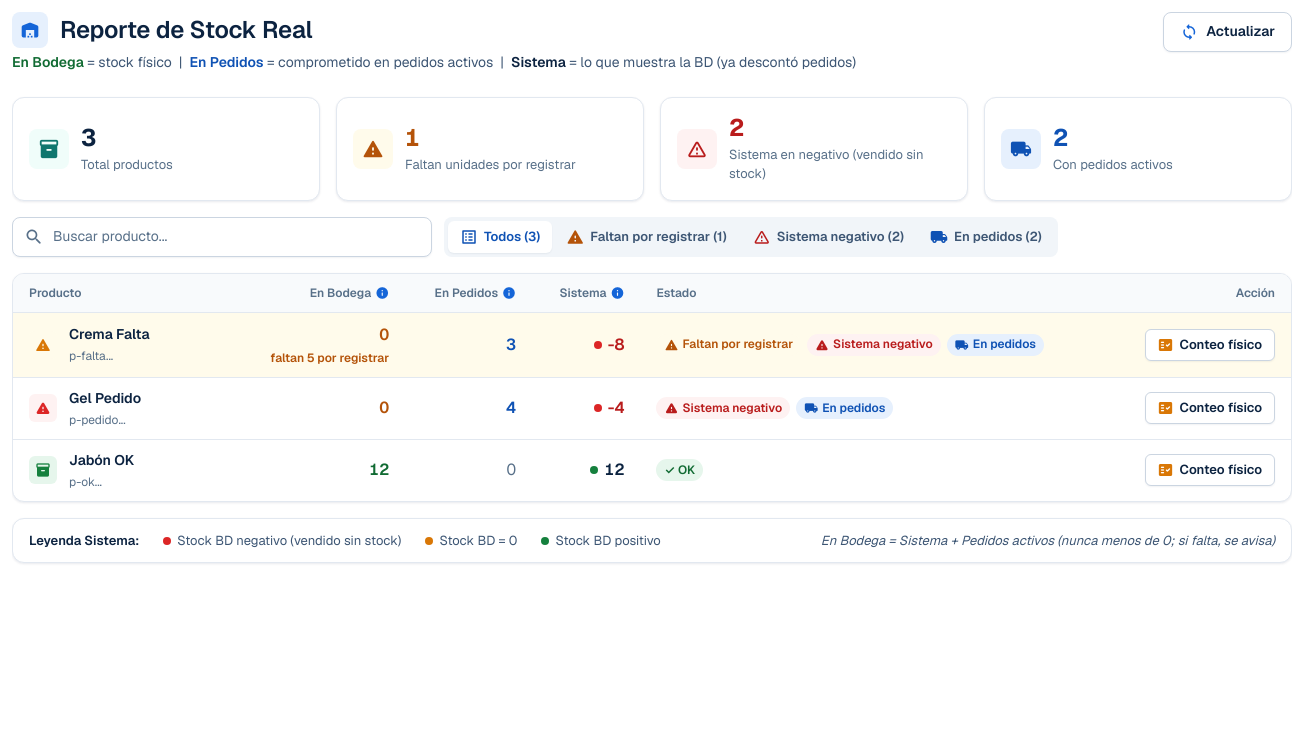
Scenario: los filtros son locales: las tarjetas y "Todos (N)" no cambian al filtrar
This screenshot has width=1304, height=732.
Expected: the text "Crema Falta" is shown, left=69, top=324, right=150, bottom=345
What coordinates should you click on to do the following:
click the button "Faltan por registrar (1)"
I would click on:
 (646, 237)
Its box is left=554, top=221, right=739, bottom=253.
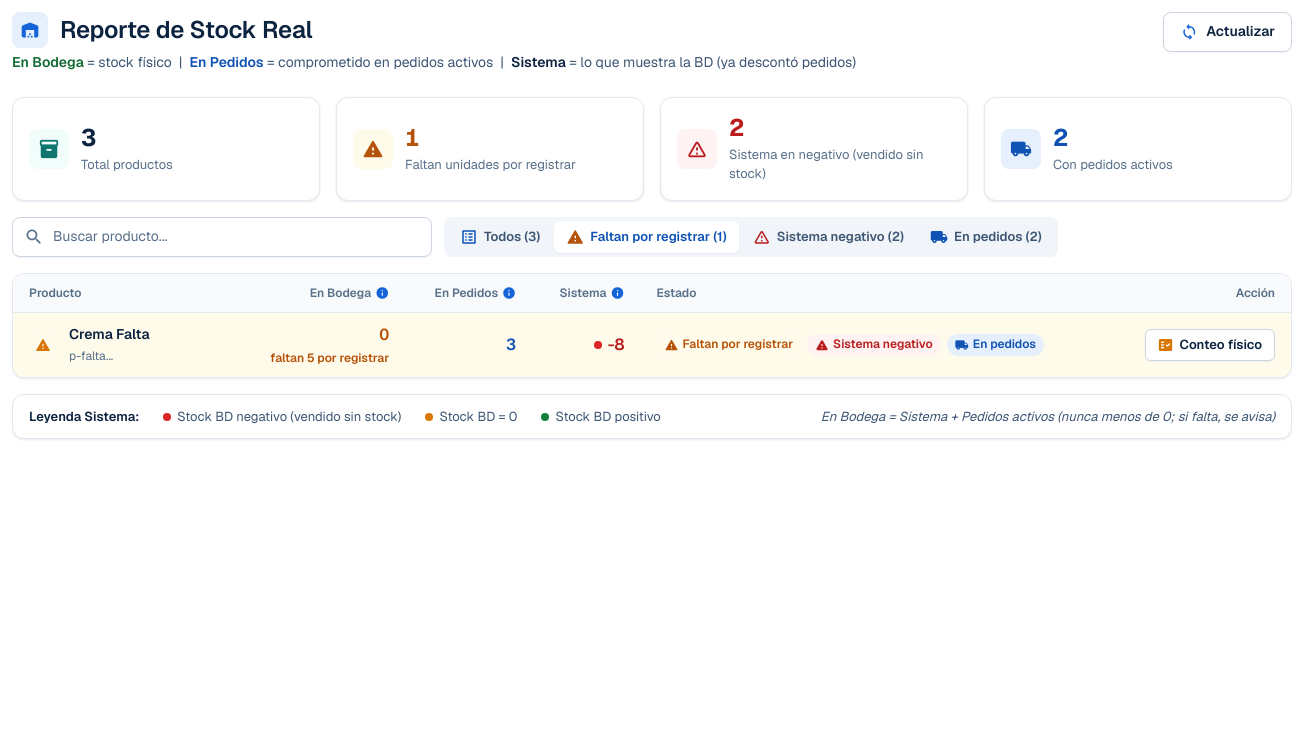
Expected: the text "Crema Falta" is shown, left=69, top=324, right=150, bottom=345
Expected: the text "Jabón OK" is gone
